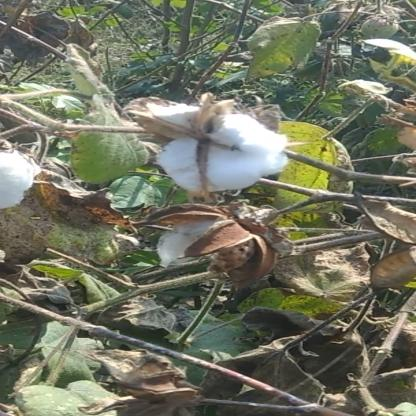cotton_ready: (97, 90, 302, 206)
